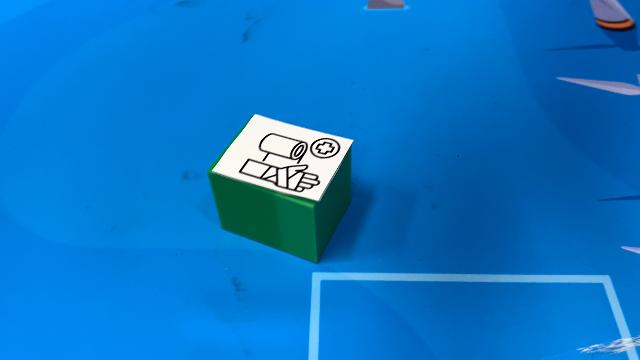bandage: (207, 112, 356, 264)
